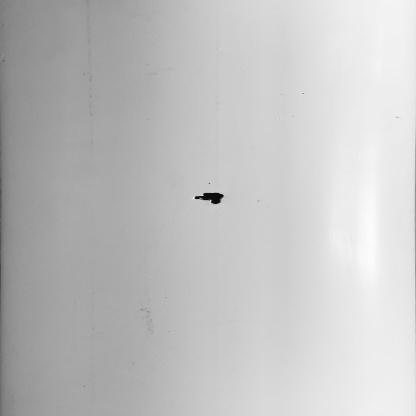kongdong: (193, 185, 232, 217)
